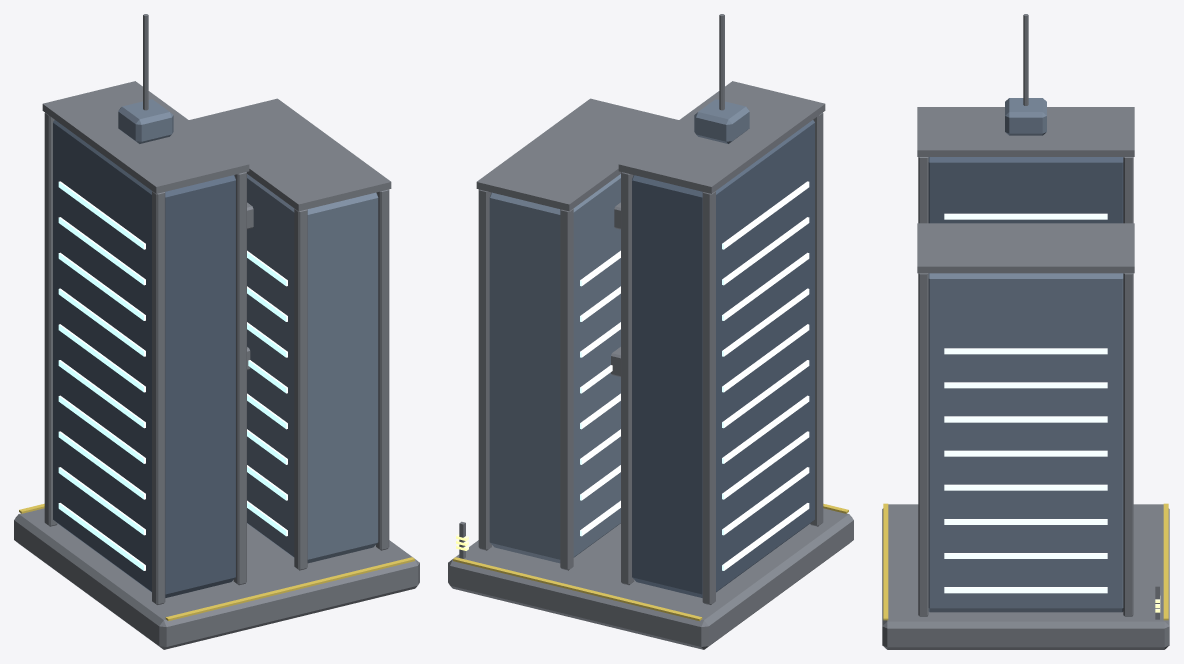
File: zone_high_2_t3.glb
3 views of the same model, side by side, from view 1: azimuth 30°, elevation 25°; view 2: azimuth 150°, elevation 25°; view 3: azimuth 270°, elevation 25° (orthographic). The views are drawn at different scales.
Visible parts, largest first — view 1: zone_high_2_t3, detail; view 2: zone_high_2_t3, detail; view 3: zone_high_2_t3, detail.
Part boxes in pixels (x1,y1,x2,y2): zone_high_2_t3: (14,81,419,649); detail: (19,14,414,621); zone_high_2_t3: (448,81,853,649); detail: (453,14,848,621); zone_high_2_t3: (882,98,1169,649); detail: (883,14,1168,620).
Size of the model in its own units: 27.5 by 57.31 by 27.5.
